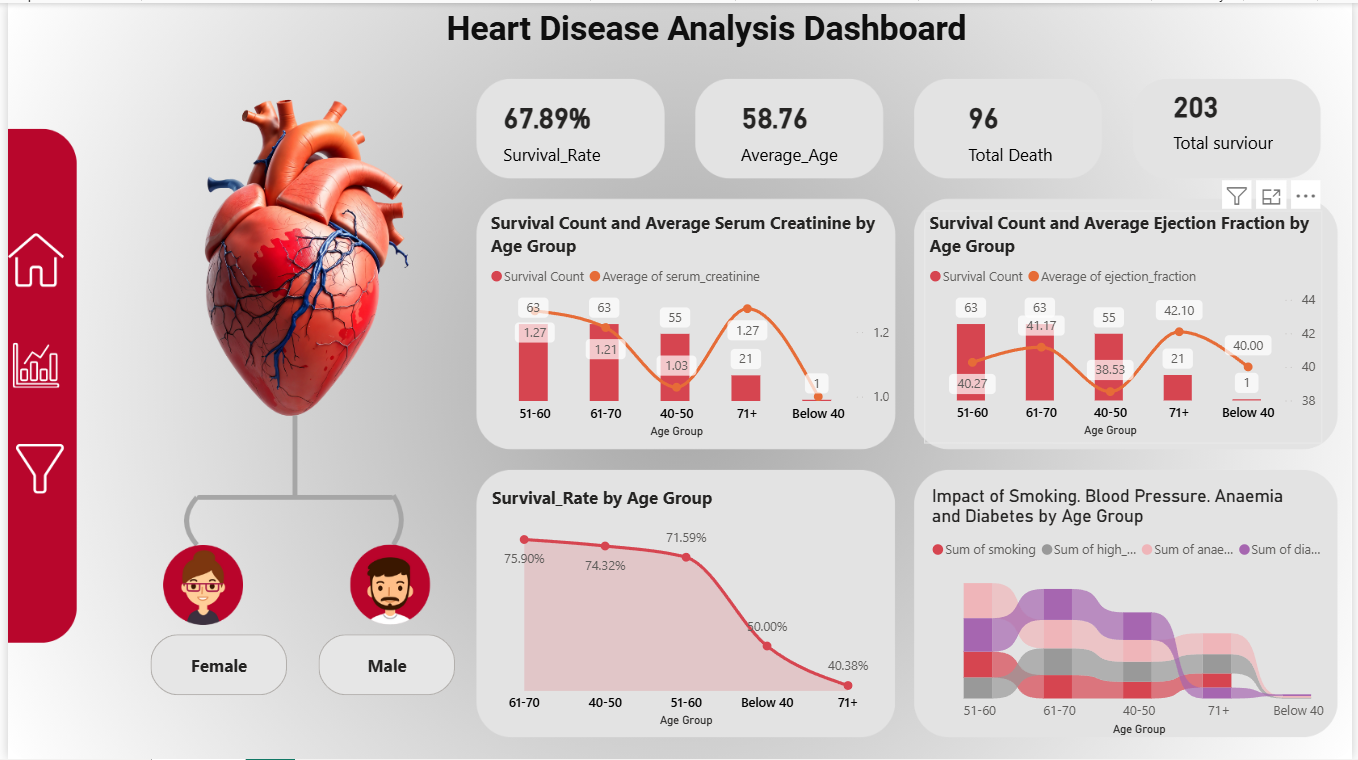

This screenshot's page, from the dashboard's own definition file:
{"tool":"powerbi","page":{"name":"Page 1","canvas":[1280,720],"ordinal":0},"visuals":[{"type":"textbox","box":[281.3,0,768.4,67.2],"z":0},{"type":"cardVisual","fields":{"Data":["heart_Disease_clinical_records_.S_RATE"]},"box":[454.2,68.6,152.3,111.1],"z":1000},{"type":"cardVisual","fields":{"Data":["heart_Disease_clinical_records_.Average_Age"]},"box":[680.6,68.6,144.1,111.1],"z":2000},{"type":"cardVisual","fields":{"Data":["heart_Disease_clinical_records_.Total surviour"]},"box":[1092.3,67.2,140,111.1],"z":3000},{"type":"cardVisual","fields":{"Data":["heart_Disease_clinical_records_.Total Death"]},"box":[897.6,77.4,134.5,91.7],"z":4000},{"type":"lineClusteredColumnComboChart","title":"Survival Count and Average Serum Creatinine by Age Group","fields":{"Category":["heart_Disease_clinical_records_.Age Group"],"Y":["CountNonNull(heart_Disease_clinical_records_.DEATH_EVENT)"],"Y2":["Avg(heart_Disease_clinical_records_.serum_creatinine)"]},"box":[454.8,197.6,389.3,221.4],"z":5000},{"type":"lineClusteredColumnComboChart","title":"Survival Count and Average Ejection Fraction by Age Group","fields":{"Category":["heart_Disease_clinical_records_.Age Group"],"Y":["CountNonNull(heart_Disease_clinical_records_.DEATH_EVENT)"],"Y2":["Avg(heart_Disease_clinical_records_.ejection_fraction)"]},"box":[872.7,197.6,378.7,220.9],"z":6000},{"type":"lineChart","fields":{"Category":["heart_Disease_clinical_records_.Age Group"],"Y":["heart_Disease_clinical_records_.Survival_Rate"]},"box":[455.6,459.7,380.1,234.6],"z":6001},{"type":"ribbonChart","title":"Impact of Smoking. Blood Pressure. Anaemia and Diabetes by Age Group","fields":{"Category":["heart_Disease_clinical_records_.Age Group"],"Y":["Sum(heart_Disease_clinical_records_.smoking)","Sum(heart_Disease_clinical_records_.high_blood_pressure)","Sum(heart_Disease_clinical_records_.anaemia)","Sum(heart_Disease_clinical_records_.diabetes)"]},"box":[875,459.5,404.8,242.9],"z":6002},{"type":"advancedSlicerVisual","fields":{"Values":["heart_Disease_clinical_records_.Gender"]},"box":[130.4,596.9,300.5,68.6],"z":6003}]}

Visuals, with their boxes on the page's 1280x720 design canvas (x1, y1, x2, y2). These are canvas units, not pixel positions in the 1358x760 screenshot, which may show the page scaled, cropped or inside an application window:
textbox: bbox=[281, 0, 1050, 67]
cardVisual - heart_Disease_clinical_records_.S_RATE: bbox=[454, 69, 606, 180]
cardVisual - heart_Disease_clinical_records_.Average_Age: bbox=[681, 69, 825, 180]
cardVisual - heart_Disease_clinical_records_.Total surviour: bbox=[1092, 67, 1232, 178]
cardVisual - heart_Disease_clinical_records_.Total Death: bbox=[898, 77, 1032, 169]
"Survival Count and Average Serum Creatinine by Age Group" lineClusteredColumnComboChart: bbox=[455, 198, 844, 419]
"Survival Count and Average Ejection Fraction by Age Group" lineClusteredColumnComboChart: bbox=[873, 198, 1251, 418]
lineChart - heart_Disease_clinical_records_.Age Group x heart_Disease_clinical_records_.Survival_Rate: bbox=[456, 460, 836, 694]
"Impact of Smoking. Blood Pressure. Anaemia and Diabetes by Age Group" ribbonChart: bbox=[875, 460, 1280, 702]
advancedSlicerVisual - heart_Disease_clinical_records_.Gender: bbox=[130, 597, 431, 666]
